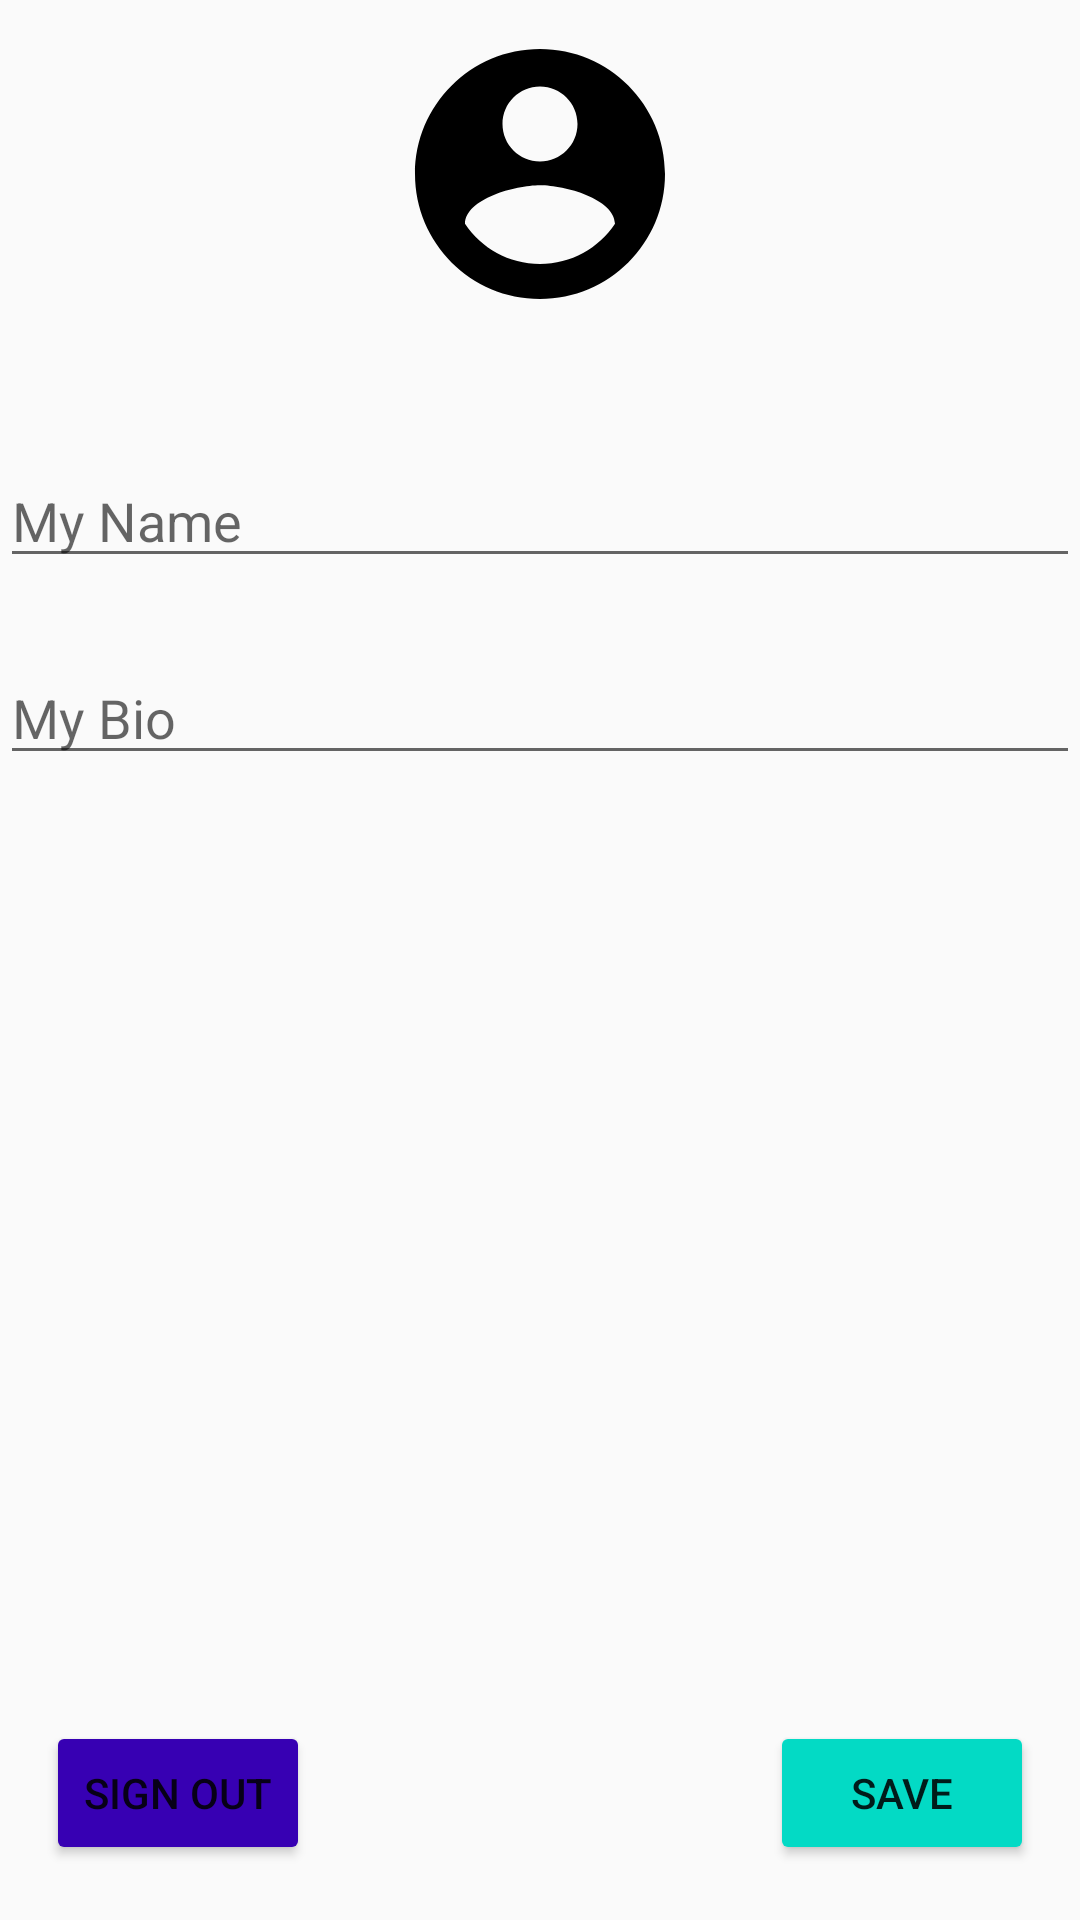

Named icons in this screenshot (1080 x 1920) and their centers, (x,y):
account circle: (540,174)
